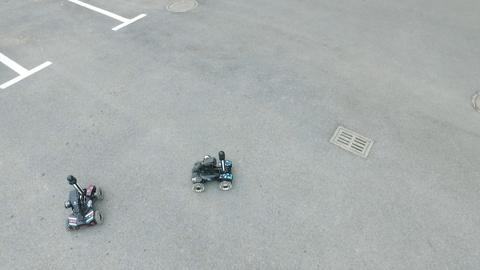chariot: (176, 142, 240, 203), (51, 175, 112, 238)
